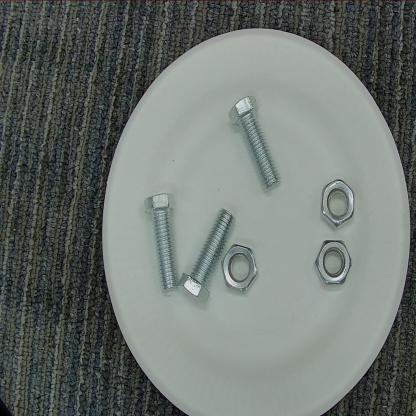FOD: (178, 204, 237, 312), (226, 91, 283, 194), (141, 190, 179, 295), (220, 240, 260, 296), (314, 235, 356, 288), (321, 176, 356, 230)
